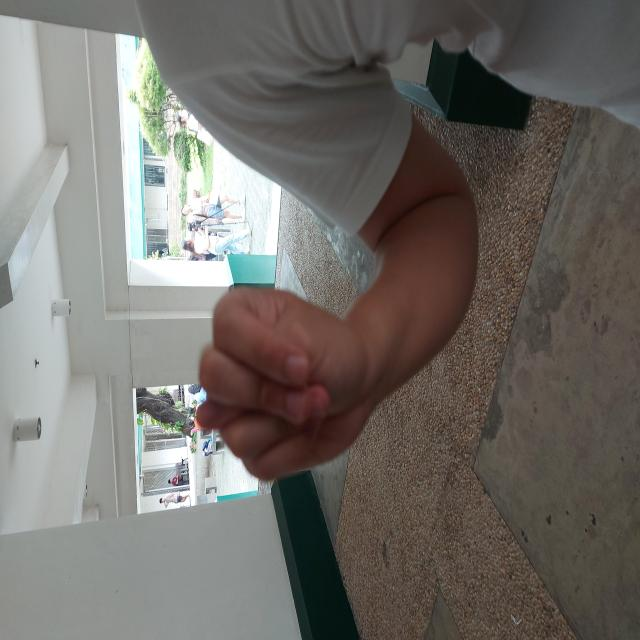N: (159, 194, 356, 367)
